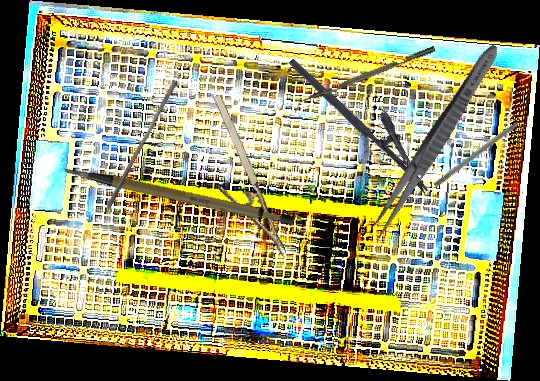Chopper: (290, 46, 439, 113)
Dressing Forceps: (366, 39, 505, 243)
Hook Surgical: (433, 110, 534, 189)
Needle Holder: (287, 39, 448, 195), (187, 92, 289, 272)
Pusher: (105, 77, 179, 212)
Scalpel Handle: (60, 130, 298, 257)
